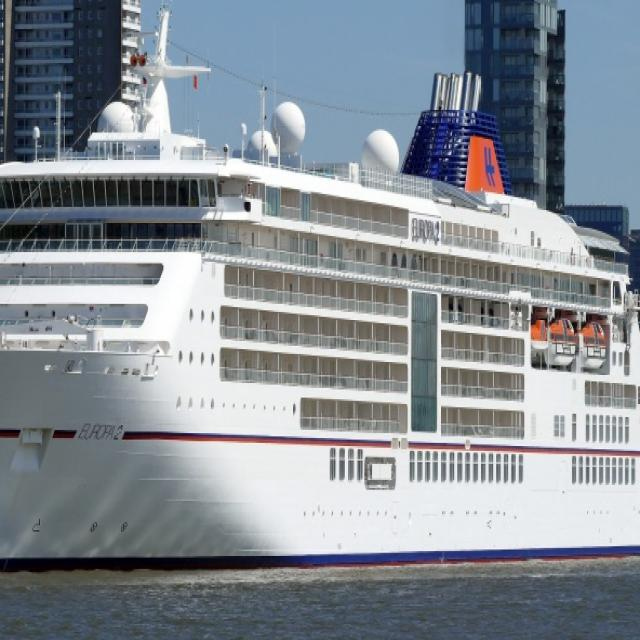cruises: (1, 20, 640, 586)
